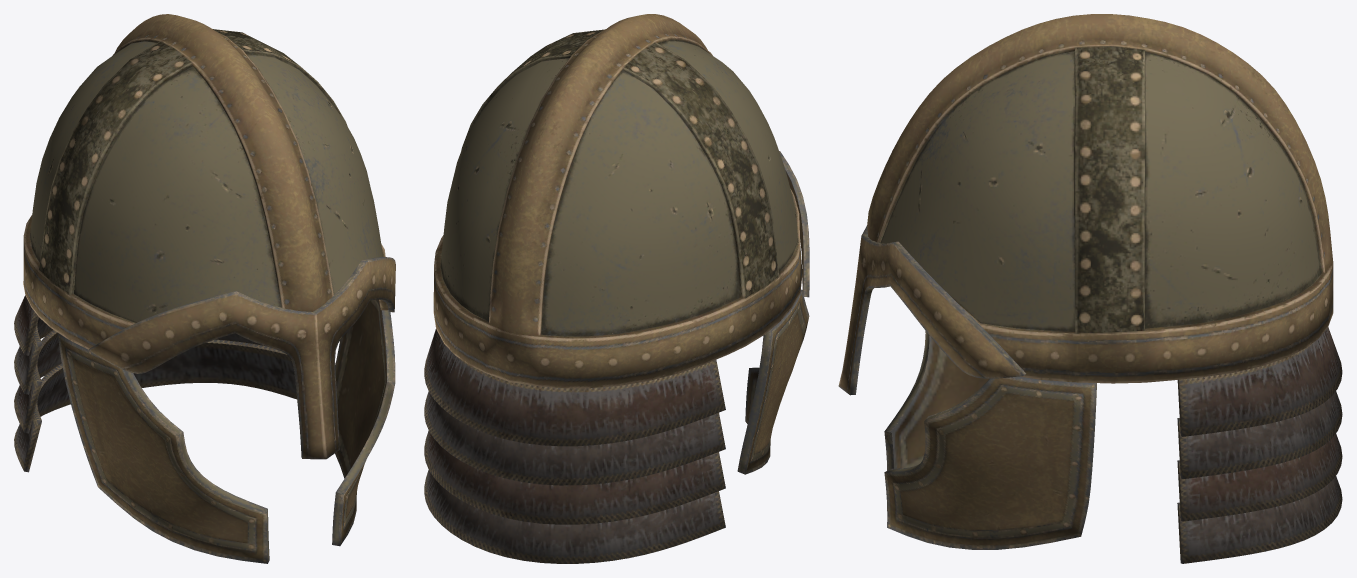
The model's file is dunland_wulf_helmet_heavy_b.fbx.
3 views of the same model, side by side, from view 1: azimuth 30°, elevation 25°; view 2: azimuth 150°, elevation 25°; view 3: azimuth 270°, elevation 25° (orthographic). The views are drawn at different scales.
Parts seen in each view (by area): view 1: dunland_wulf_helmet_heavy_b; view 2: dunland_wulf_helmet_heavy_b; view 3: dunland_wulf_helmet_heavy_b.
Part boxes in pixels (x1,y1,x2,y2): dunland_wulf_helmet_heavy_b: (14, 14, 395, 563); dunland_wulf_helmet_heavy_b: (424, 14, 809, 563); dunland_wulf_helmet_heavy_b: (838, 14, 1342, 563).
Size of the model in its own units: 0.2073 by 0.2697 by 0.2919.
Materials: 1 (1 with a texture image).
